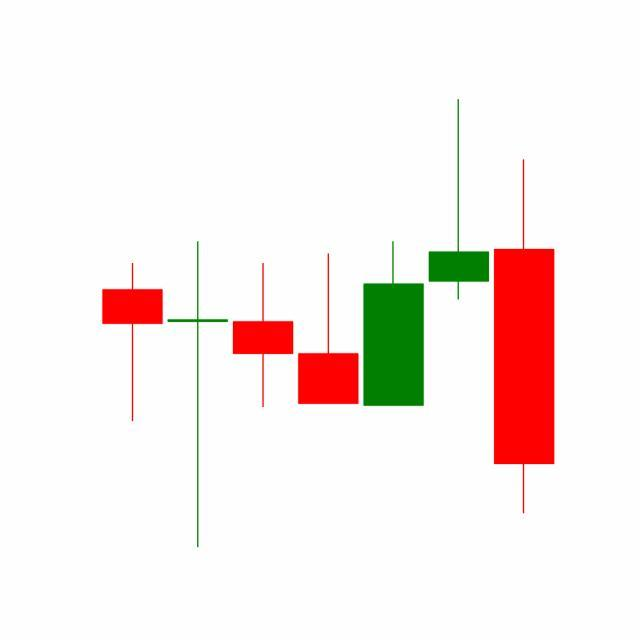Hikkake Pattern: (229, 100, 555, 520)
